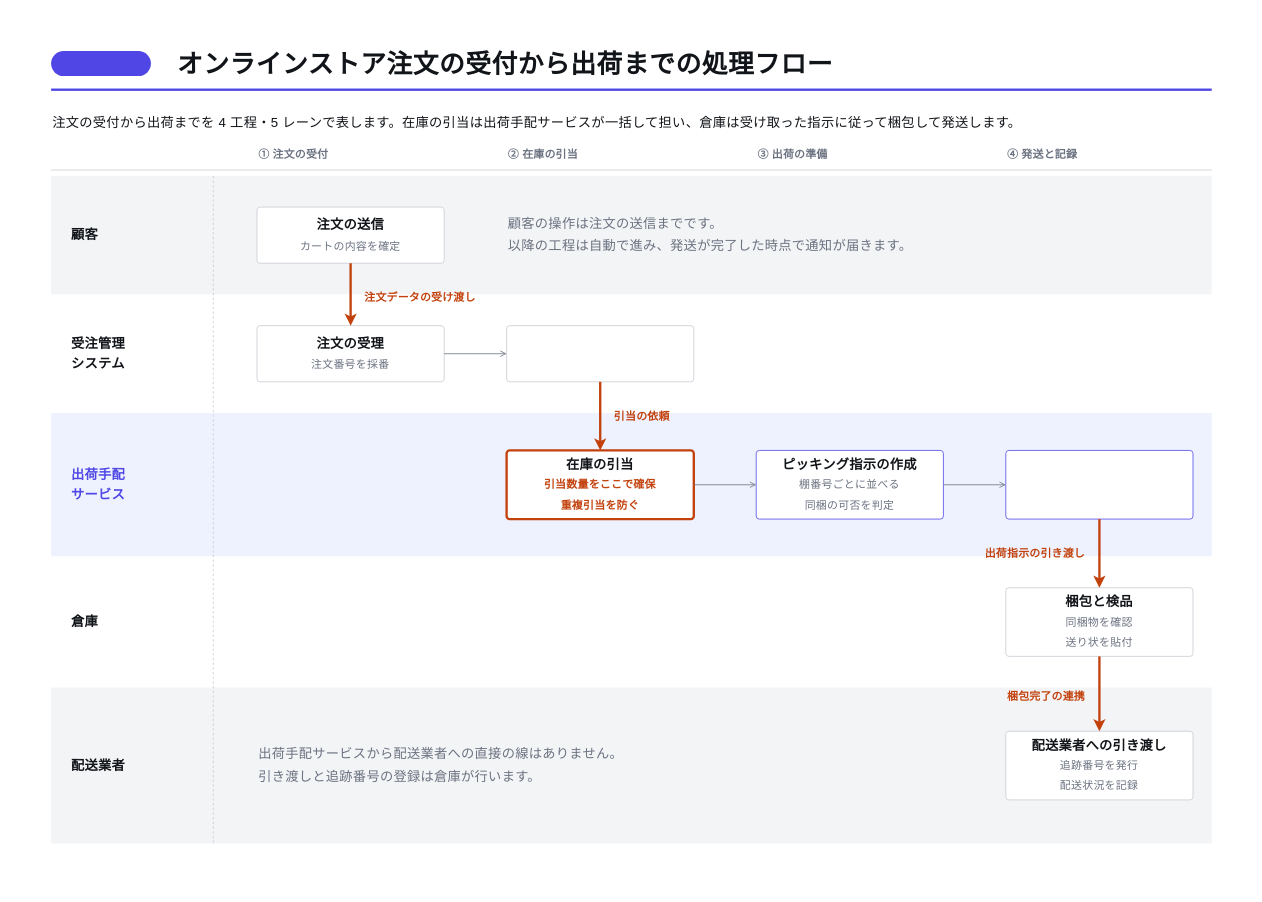
The diagram is 1262 pixels wide and 902 high, and some of its shapes have lost their labels. The box of each missing label's shape, as (x1, y1, x2, y2) in pixels:
処理フロー: (51, 51, 151, 76)
出荷指示の送信 倉庫システムへ連携 1 指示 1 出荷: (1005, 450, 1193, 519)
決済の確認 与信結果を反映: (506, 325, 694, 382)
